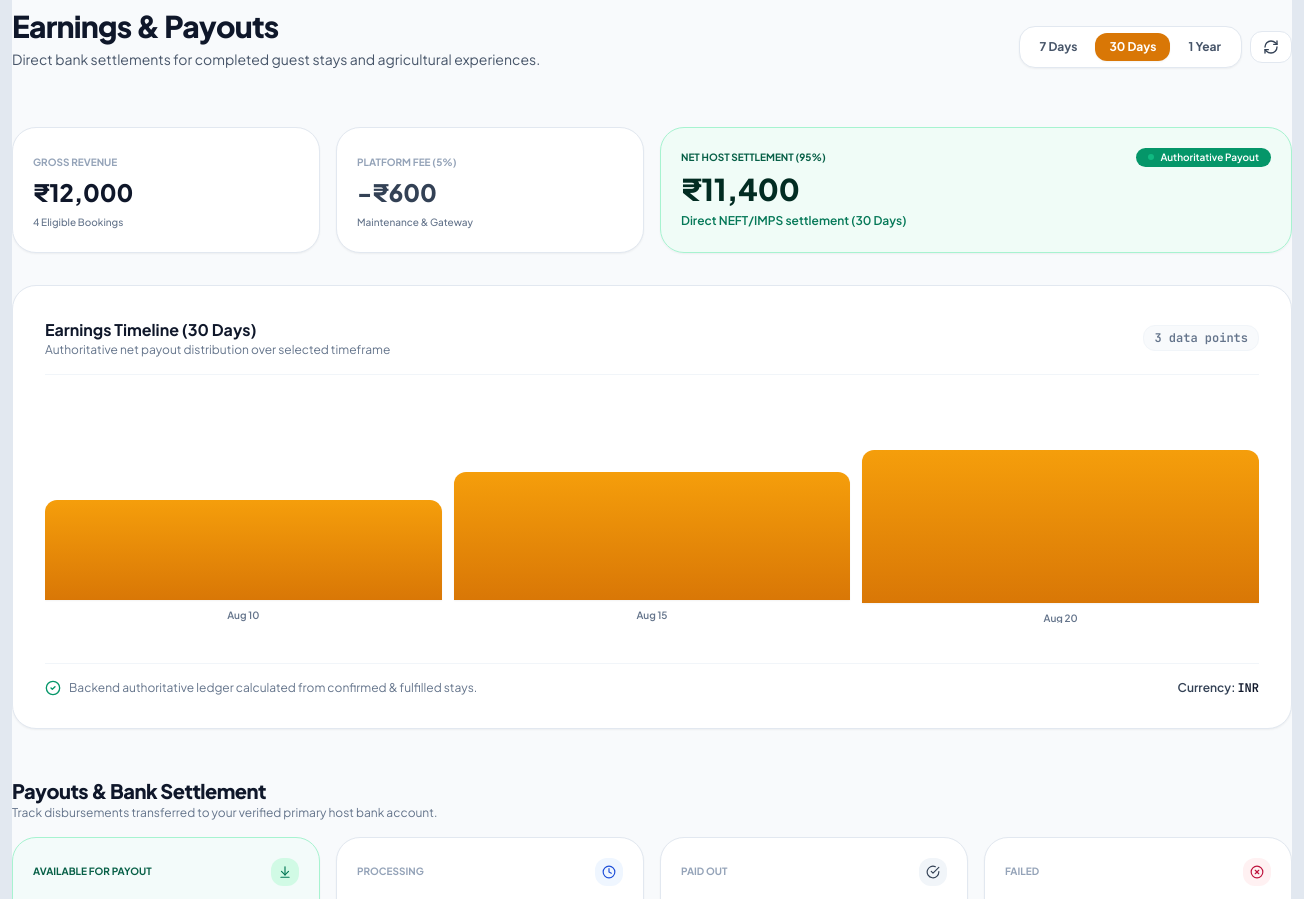
it: Provider Earnings Component Suite › switches time ranges dynamically between 7 Days, 30 Days, and 1 Year
# Click 7 Days
Click the button "7 Days": (1059, 47) x1=1026 y1=33 x2=1092 y2=61
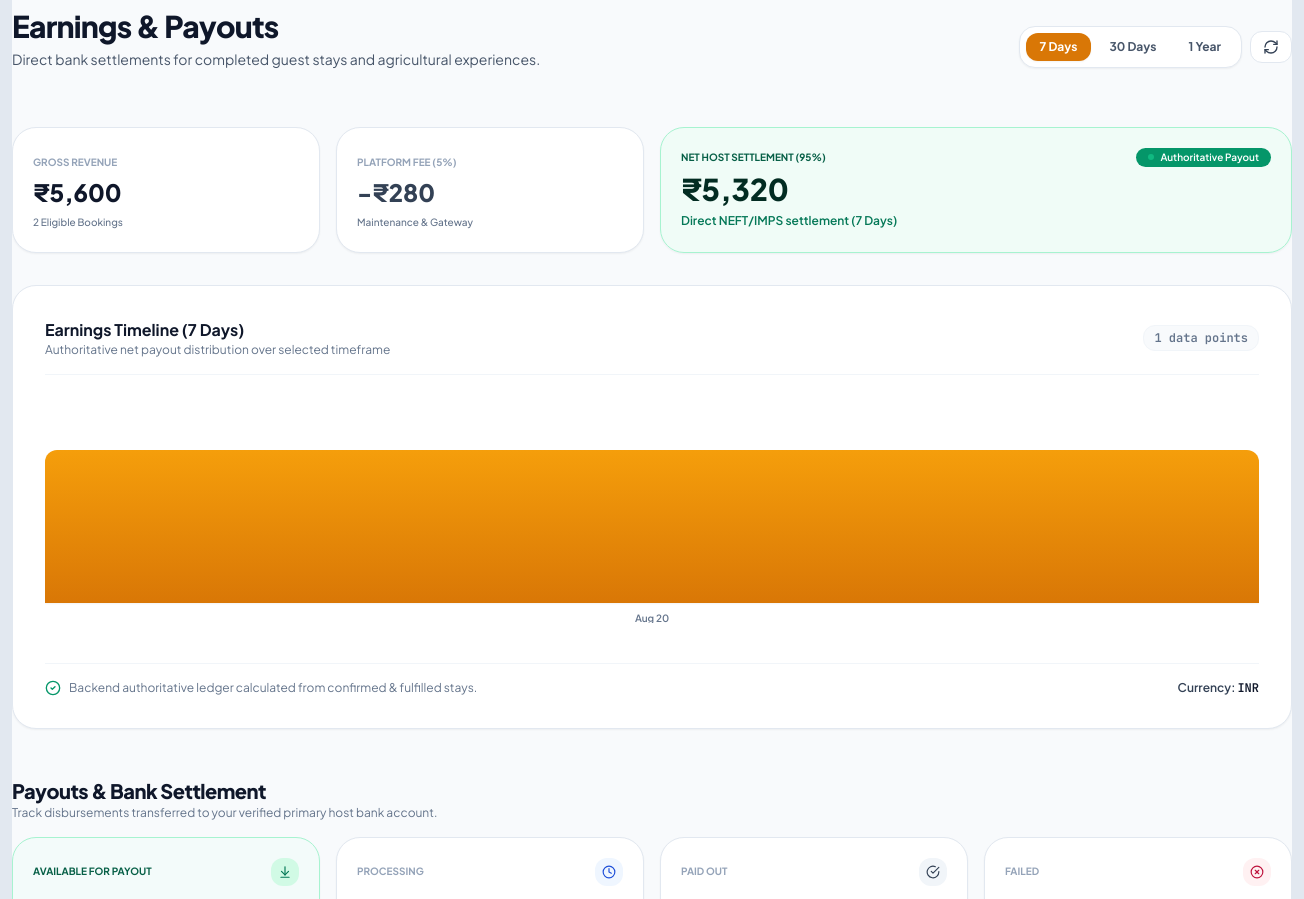
expect the heading "Earnings Timeline (7 Days)" is shown: met, box x1=45 y1=319 x2=244 y2=340
